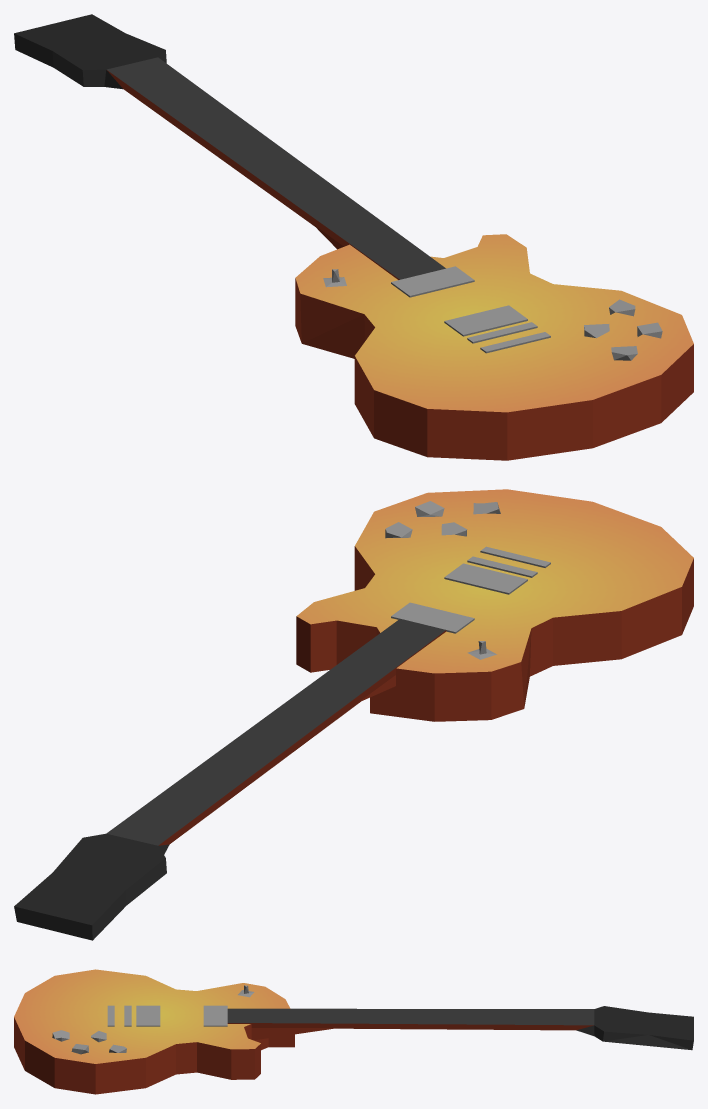
The model's file is guitar_decimated 1.fbx.
3 renders of one model, top to bottom at view 1: azimuth 30°, elevation 25°; view 2: azimuth 150°, elevation 25°; view 3: azimuth 270°, elevation 25°, orthographic. The views are drawn at different scales.
Parts seen in each view (by area): view 1: Circle.003; view 2: Circle.003; view 3: Circle.003.
Part boxes in pixels (x1,y1,x2,y2): Circle.003: (14,14,693,460); Circle.003: (14,489,693,940); Circle.003: (14,969,693,1094).
Bounding box in the file's own units: 200 × 38.02 × 607.
